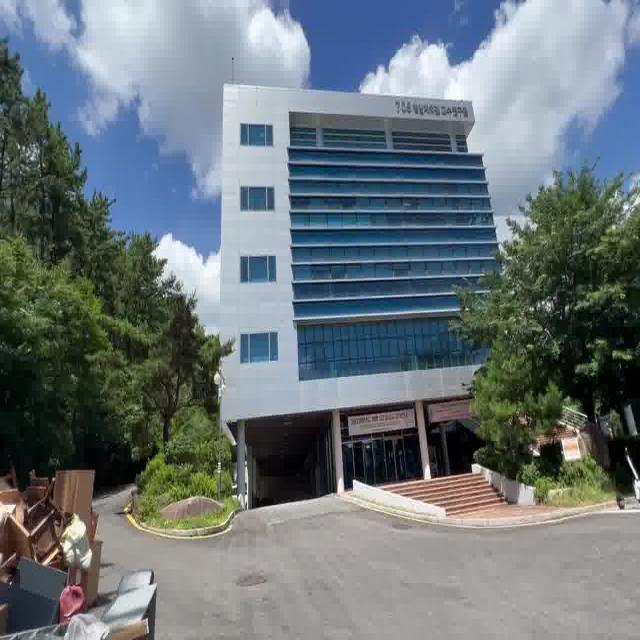building: (219, 66, 485, 489)
